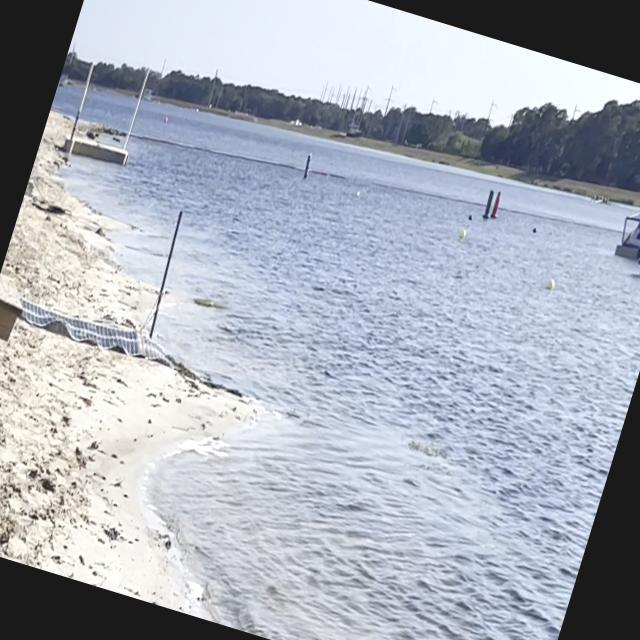buoy: (454, 226, 469, 242), (545, 276, 557, 292), (466, 214, 474, 223), (531, 226, 538, 234)
